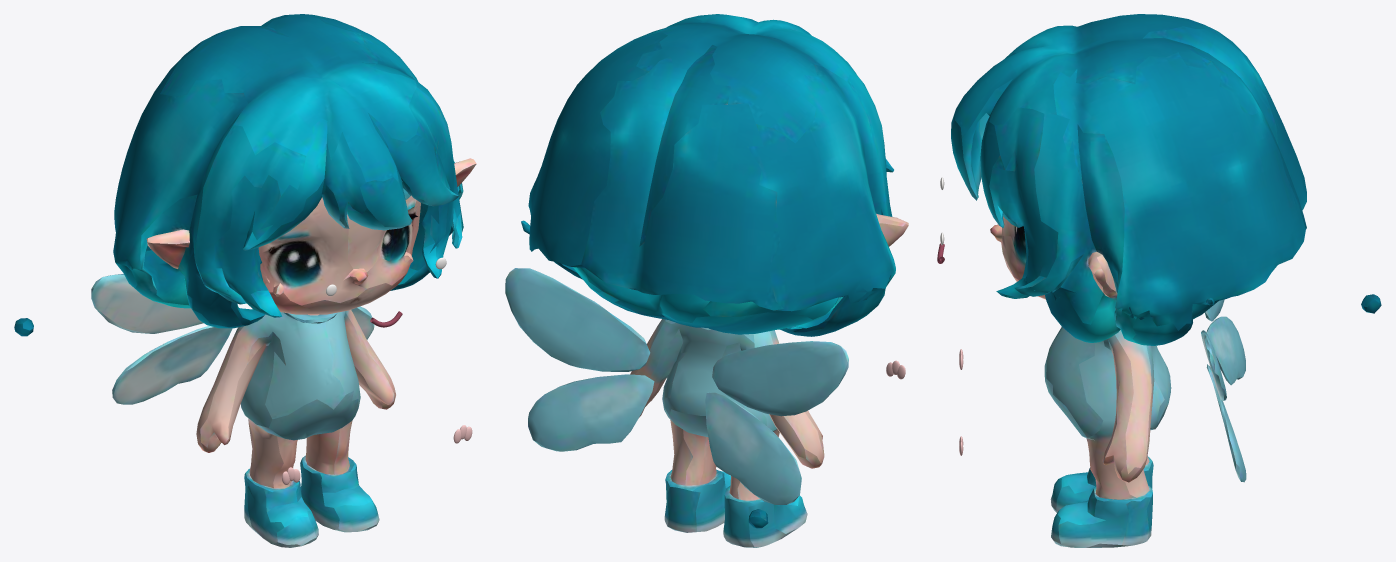
File: lux3d_spirit_pix_v2-refined.glb
The picture shows the model from 3 angles, left to right: view 1: azimuth 30°, elevation 25°; view 2: azimuth 150°, elevation 25°; view 3: azimuth 270°, elevation 25°; orthographic projection. The views are drawn at different scales.
Parts seen in each view (by area): view 1: geometry_0; view 2: geometry_0; view 3: geometry_0.
Part boxes in pixels (x1,y1,x2,y2): geometry_0: [14, 14, 476, 547]; geometry_0: [505, 14, 908, 547]; geometry_0: [951, 14, 1381, 547].
Size of the model in its own units: 0.1124 by 0.15 by 0.1237.
Materials: 4 (1 with a texture image).
